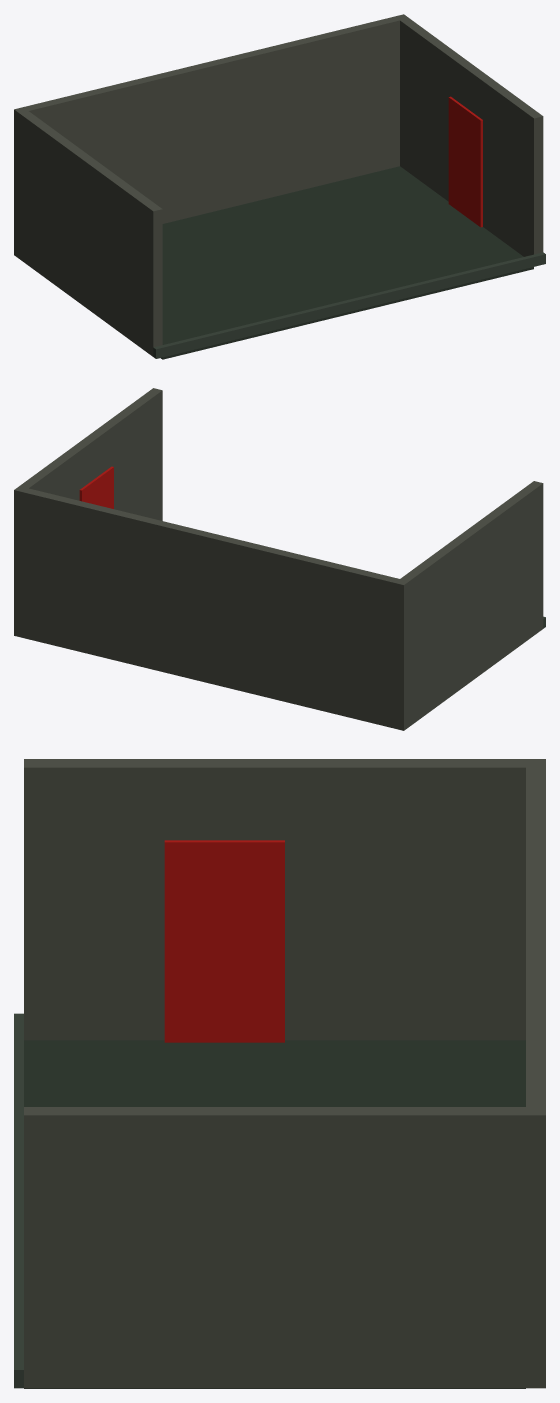
The model's file is sewer_stairs.obj.
The picture shows the model from 3 angles, top to bottom: view 1: azimuth 30°, elevation 25°; view 2: azimuth 150°, elevation 25°; view 3: azimuth 270°, elevation 25°; orthographic projection. The views are drawn at different scales.
Size of the model in its own units: 8.4 by 3.1 by 5.3.
